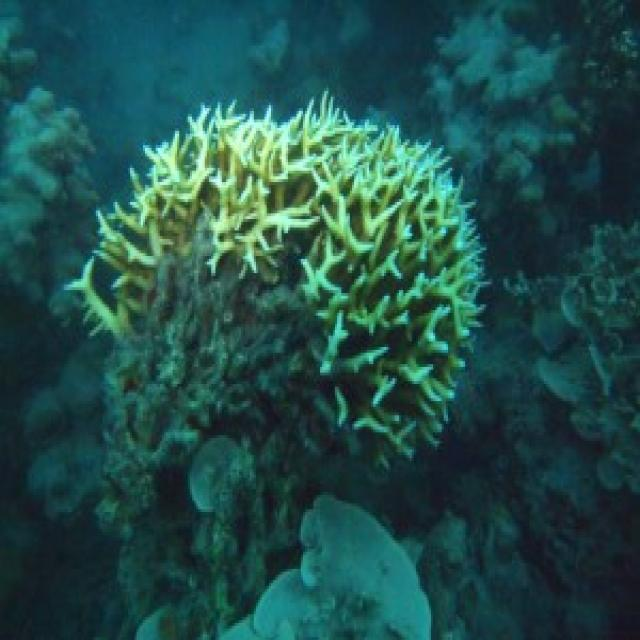Bleached: (77, 106, 487, 451), (1, 15, 107, 345), (427, 1, 577, 203), (288, 496, 439, 640)
Healthy: (101, 463, 290, 640), (536, 220, 640, 502), (575, 4, 640, 129)
